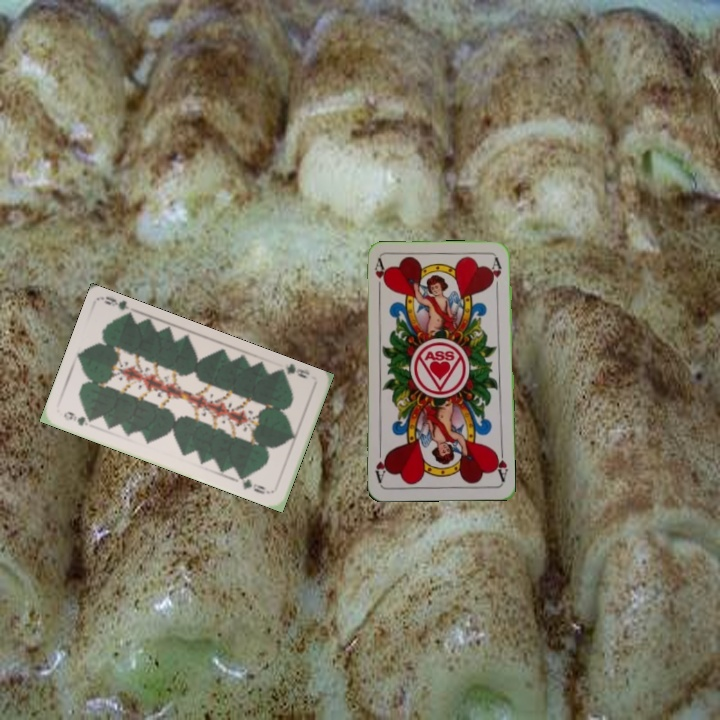G9: (59, 407, 96, 428), (275, 361, 312, 381)
HA: (491, 443, 510, 484), (371, 256, 387, 297)
